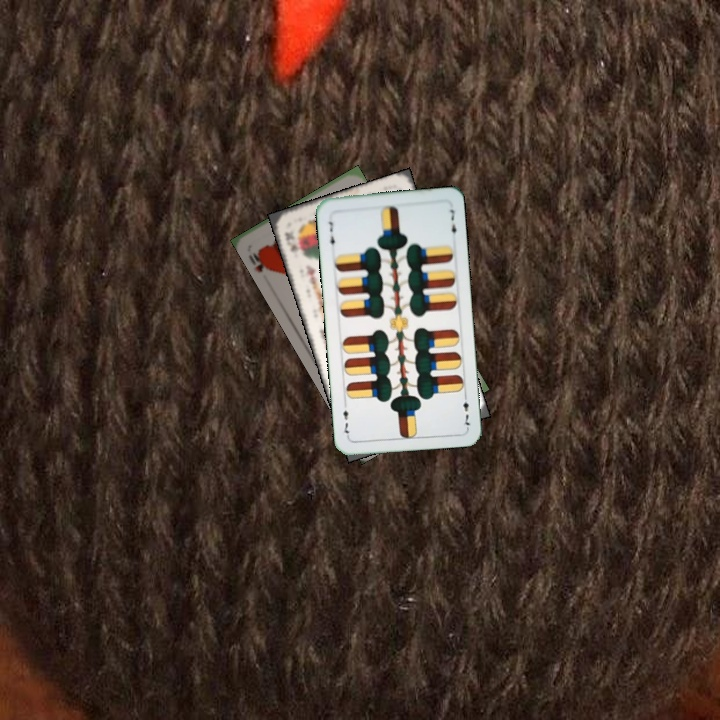E7: (459, 389, 472, 430), (324, 217, 337, 252)
HO: (244, 245, 274, 275)
SK: (281, 227, 300, 254)
